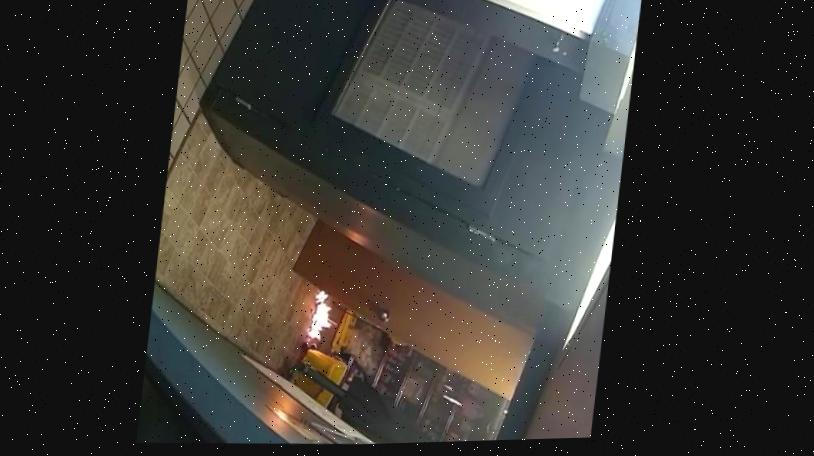fire: (276, 243, 372, 359)
